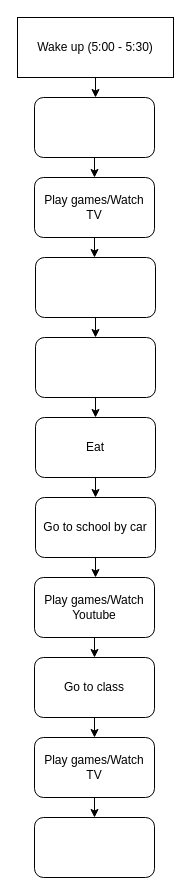
Some shapes in this 191 by 895 pixel diagram are drawn without their labels. The centre of each missing label's shape, as x and y in pixels:
Brush teeth: the point at 95,287
Go downstairs: the point at 94,127
Go to a canteen by car: the point at 95,367
Start class: the point at 94,847
